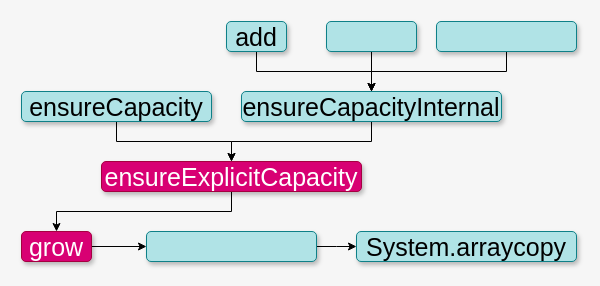
This 600x286 diagram has some shape labels left out. Each missing label, with the centre of its shape:
addAll: the point at 372,37
Arrays.copyOf: the point at 232,247
readObject: the point at 507,37
